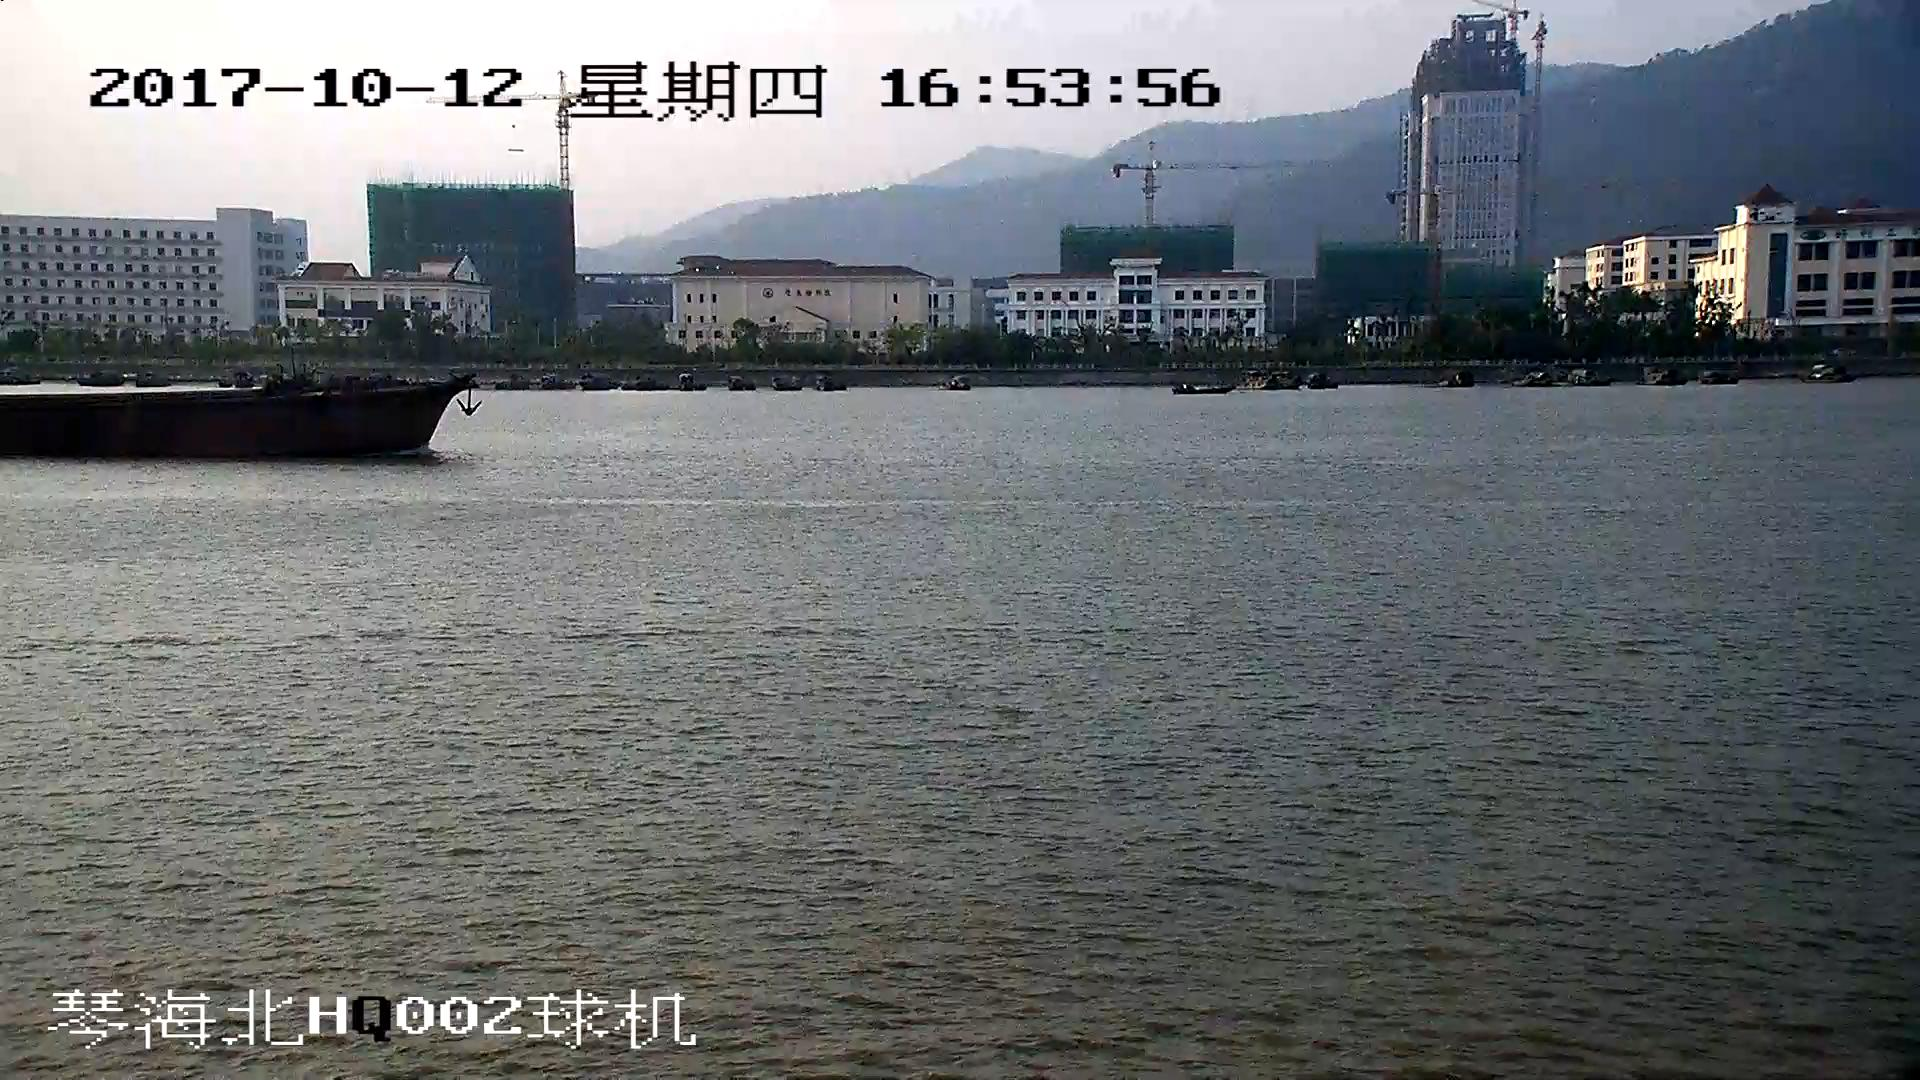bulk cargo carrier: (1, 380, 468, 464)
